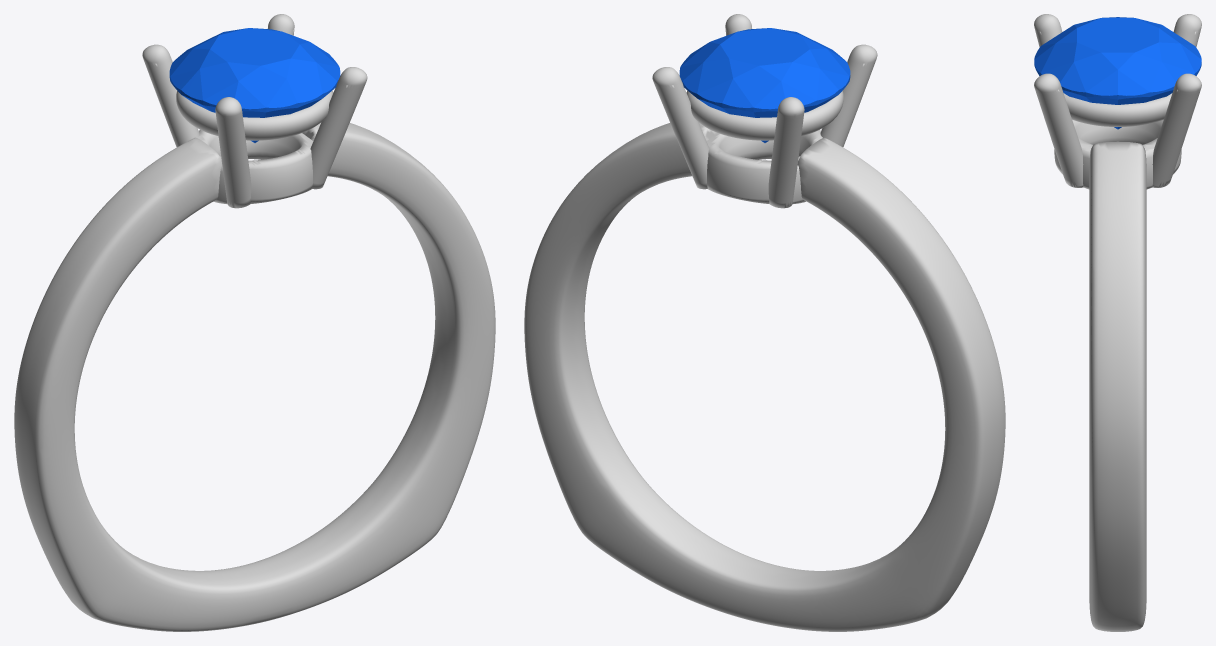
The model's file is bluesapphire-round-platinum-4prong-europeanshank-nosidestones.glb.
3 renders of one model, left to right at view 1: azimuth 30°, elevation 25°; view 2: azimuth 150°, elevation 25°; view 3: azimuth 270°, elevation 25°, orthographic. The views are drawn at different scales.
Parts seen in each view (by area): view 1: metal, stone; view 2: metal, stone; view 3: metal, stone.
Part boxes in pixels (x1,y1,x2,y2): metal: (14,14,495,631); stone: (169,28,340,142); metal: (524,14,1005,631); stone: (679,28,850,142); metal: (1034,14,1201,631); stone: (1034,17,1201,129).
Size of the model in its own units: 20.1 by 23.61 by 6.45.
